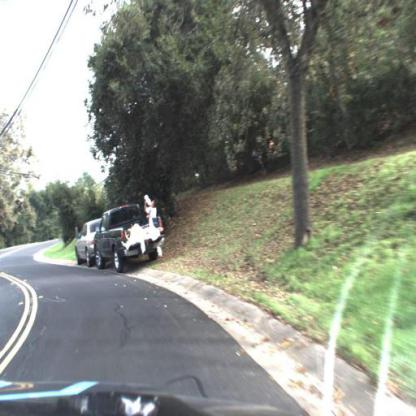car: (93, 196, 165, 276), (73, 211, 109, 271)
pedestrian: (124, 224, 166, 253), (144, 189, 159, 222)
